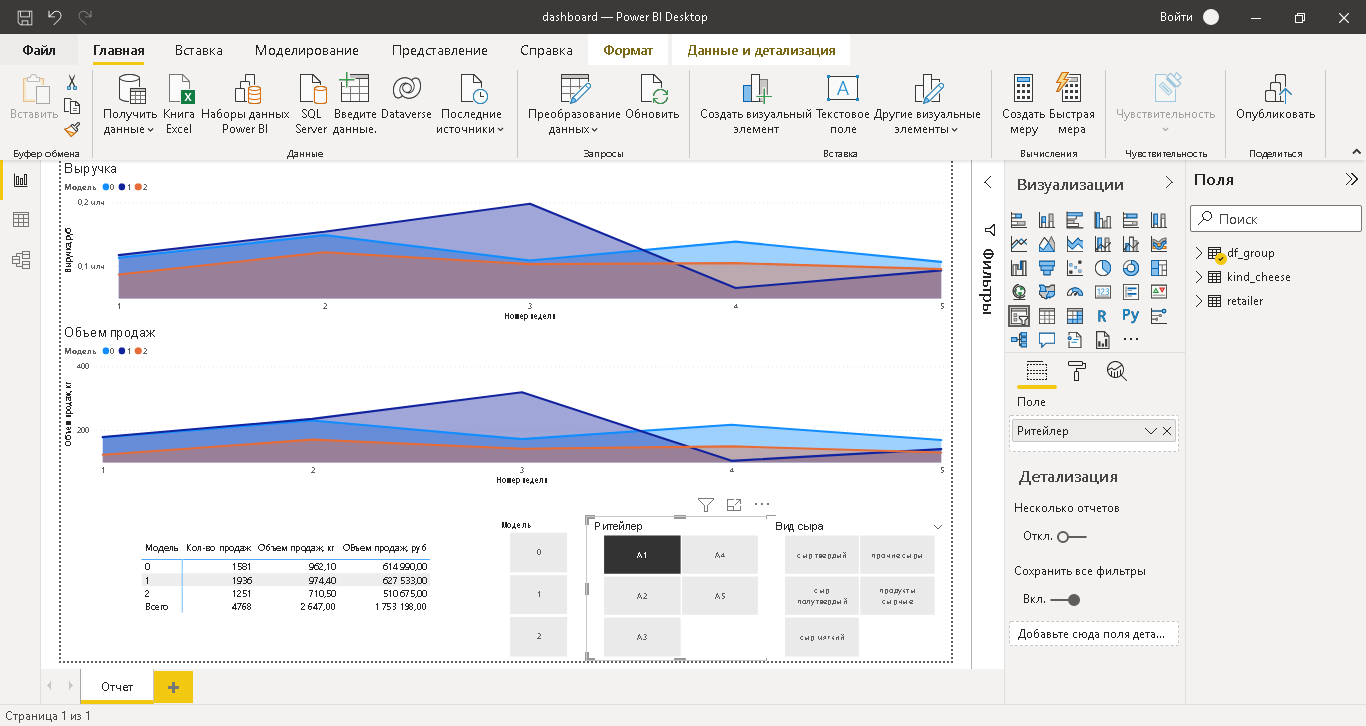

Layout of this report page (visuals, bound fields, positions):
{"tool":"powerbi","page":{"name":"Отчет","canvas":[1280,720],"ordinal":0},"visuals":[{"type":"areaChart","title":"Выручка","fields":{"Category":["df_group.week_number"],"Series":["df_group.model"],"Y":["Sum(df_group.total_proceeds)"]},"box":[0,0,1280,236.1],"z":0},{"type":"slicer","fields":{"Values":["df_group.retailer"]},"box":[754.1,511.5,271.5,208.5],"z":1000},{"type":"slicer","fields":{"Values":["df_group.kind_cheese"]},"box":[1015.1,511.5,264.9,208.5],"z":2000},{"type":"slicer","fields":{"Values":["df_group.model"]},"box":[619,511.5,132.5,208.5],"z":3000},{"type":"areaChart","title":"Объем продаж","fields":{"Category":["df_group.week_number"],"Series":["df_group.model"],"Y":["Sum(df_group.total_quantity)"]},"box":[0,236.1,1280,236],"z":4000},{"type":"pivotTable","fields":{"Rows":["df_group.model"],"Values":["Sum(df_group.total_amount)","Sum(df_group.total_quantity)","Sum(df_group.total_proceeds)"]},"box":[110.1,542.3,437.7,144.5],"z":5000}]}

Visuals, with their boxes on the page's 1280x720 design canvas (x1, y1, x2, y2). These are canvas units, not pixel positions in the 1366x726 screenshot, which may show the page scaled, cropped or inside an application window:
"Выручка" areaChart: <bbox>0, 0, 1280, 236</bbox>
slicer - df_group.retailer: <bbox>754, 512, 1026, 720</bbox>
slicer - df_group.kind_cheese: <bbox>1015, 512, 1280, 720</bbox>
slicer - df_group.model: <bbox>619, 512, 752, 720</bbox>
"Объем продаж" areaChart: <bbox>0, 236, 1280, 472</bbox>
pivotTable - df_group.model x Sum(df_group.total_amount): <bbox>110, 542, 548, 687</bbox>
